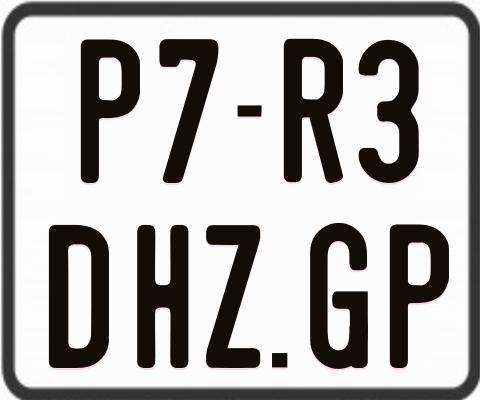3: (359, 38, 422, 181)
7: (157, 36, 222, 182)
D: (48, 223, 112, 370)
G: (308, 222, 370, 372)
H: (137, 224, 188, 367)
P: (79, 40, 142, 184), (390, 223, 449, 372)
R: (281, 38, 343, 183)
Z: (204, 223, 258, 366)
